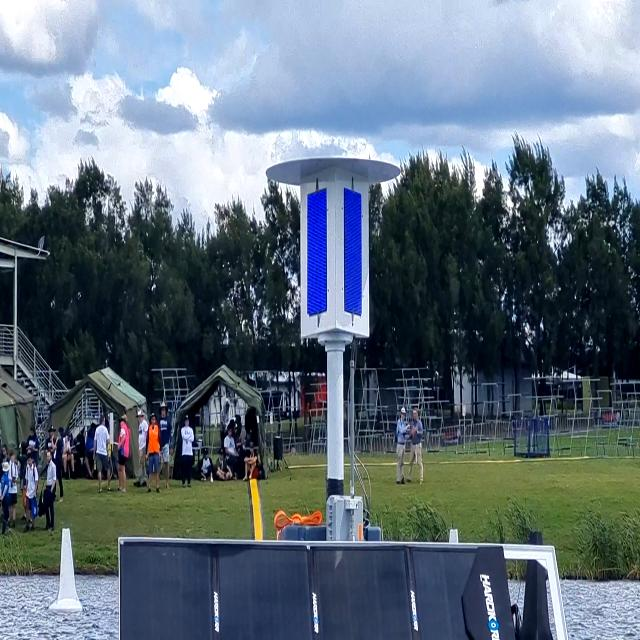led: (340, 176, 368, 323)
